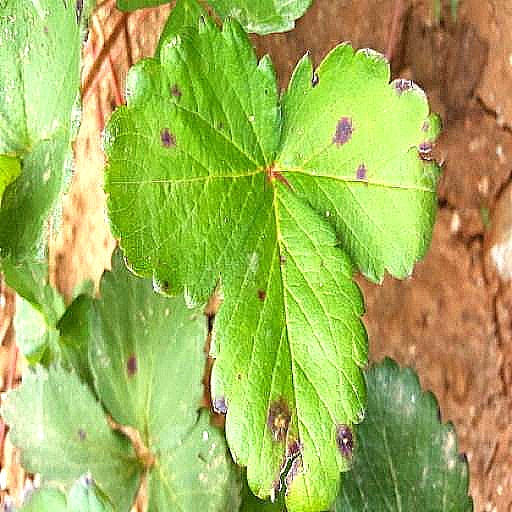Leaf Spot: (99, 201, 282, 500), (209, 0, 371, 337), (272, 227, 448, 470), (0, 243, 95, 511), (88, 59, 207, 267), (0, 25, 114, 149)
